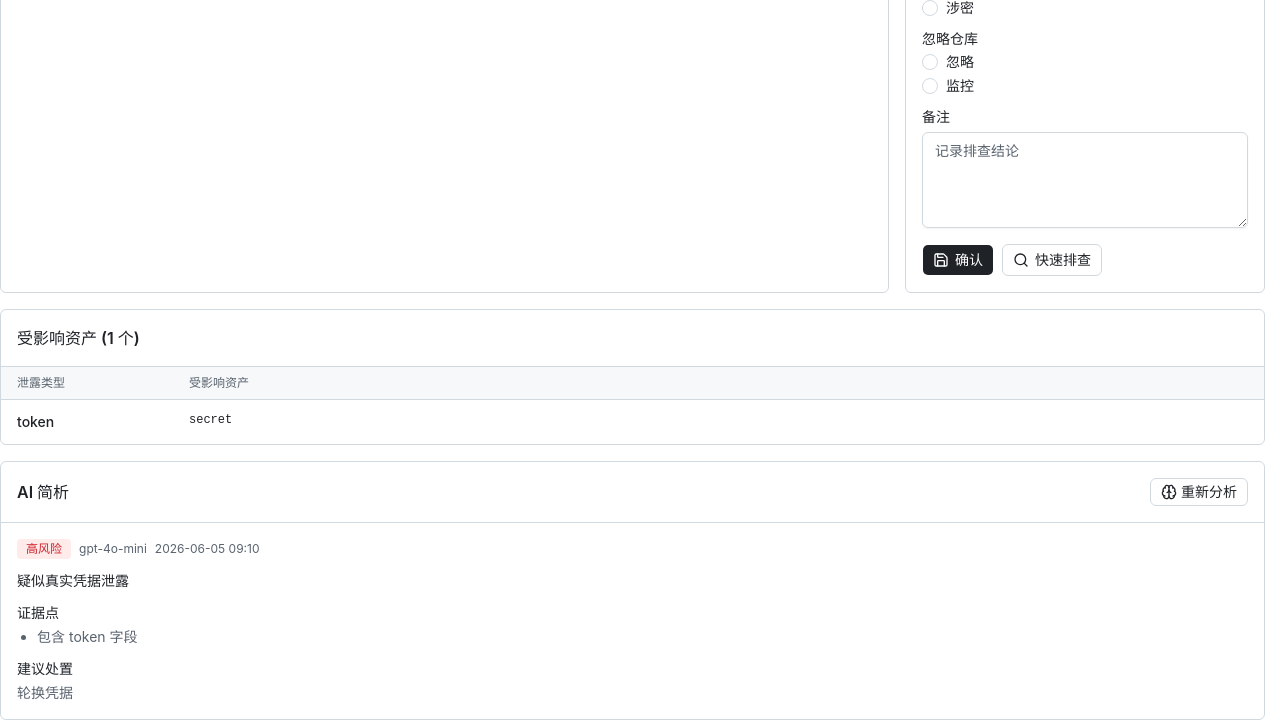
Test case: LeakageDetailPage › shows AI analysis and can submit a rerun
(page scrolled)
Expected: the text "疑似真实凭据泄露" is shown, [17, 572, 129, 589]
Expected: the icon "高风险" is shown, [17, 539, 71, 559]
Click the button "重新分析". click: (1199, 492)
box: [1150, 478, 1248, 506]
(page scrolled)
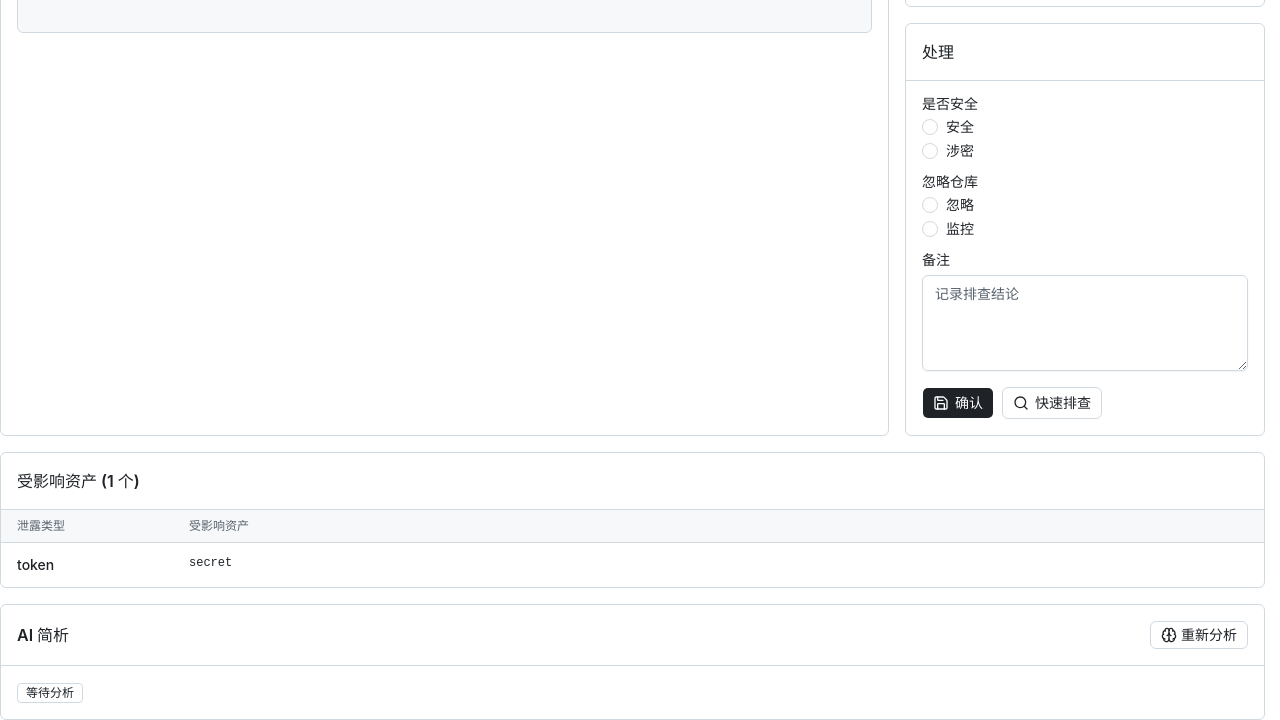
Now the text "等待分析" is shown, box [17, 683, 83, 703]
